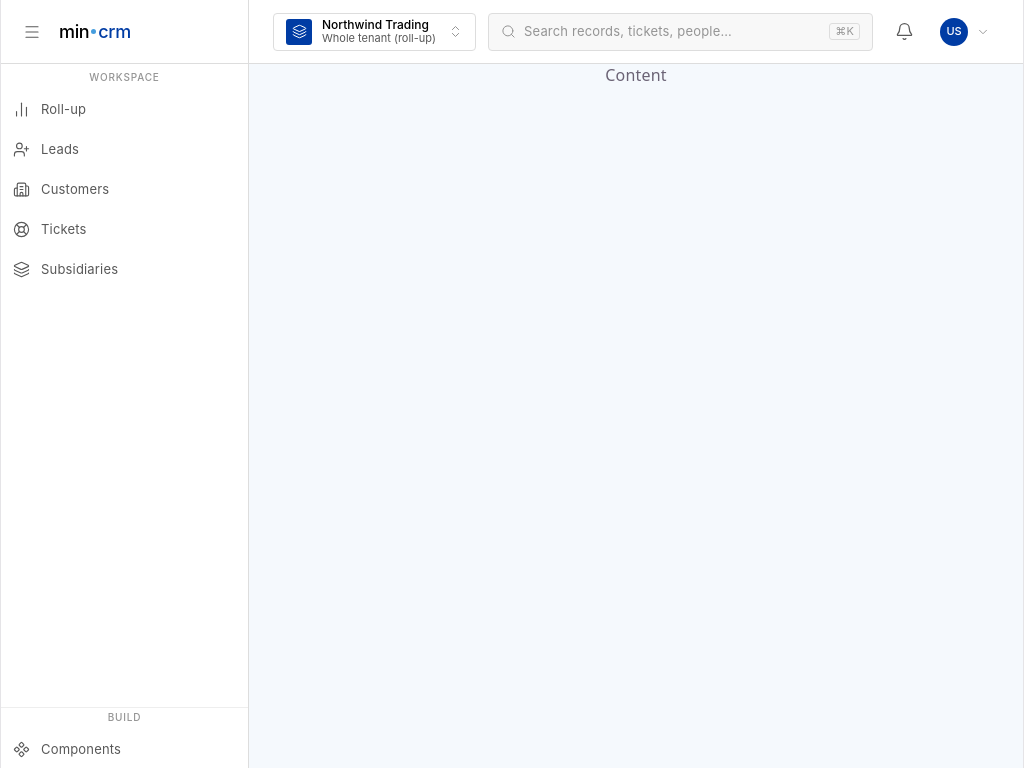
ScopeSwitcher — tenant_admin (whole tenant scope) › dropdown closes after selection
Click the button with test id "scope-switcher-chip" at (374, 32), box [273,12,476,50]
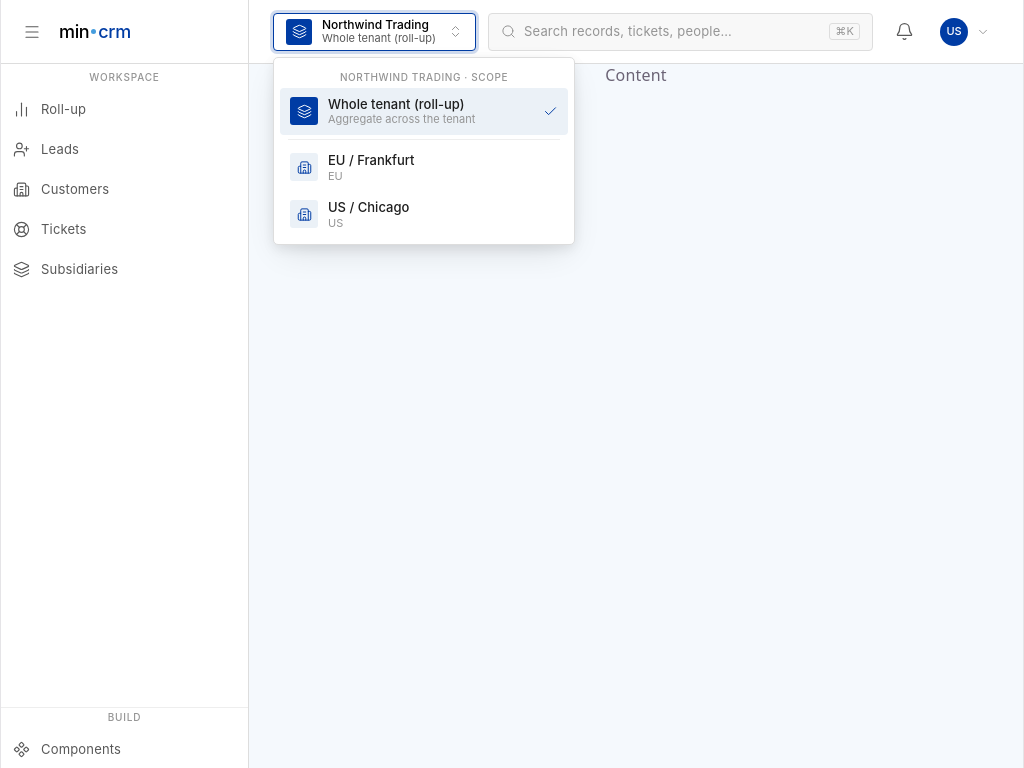
Now the element with test id "scope-dropdown" is shown, box [273,56,575,245]
Click the button "Whole tenant (roll-up) Aggregate across the tenant" at (424, 111), box [280,88,568,135]
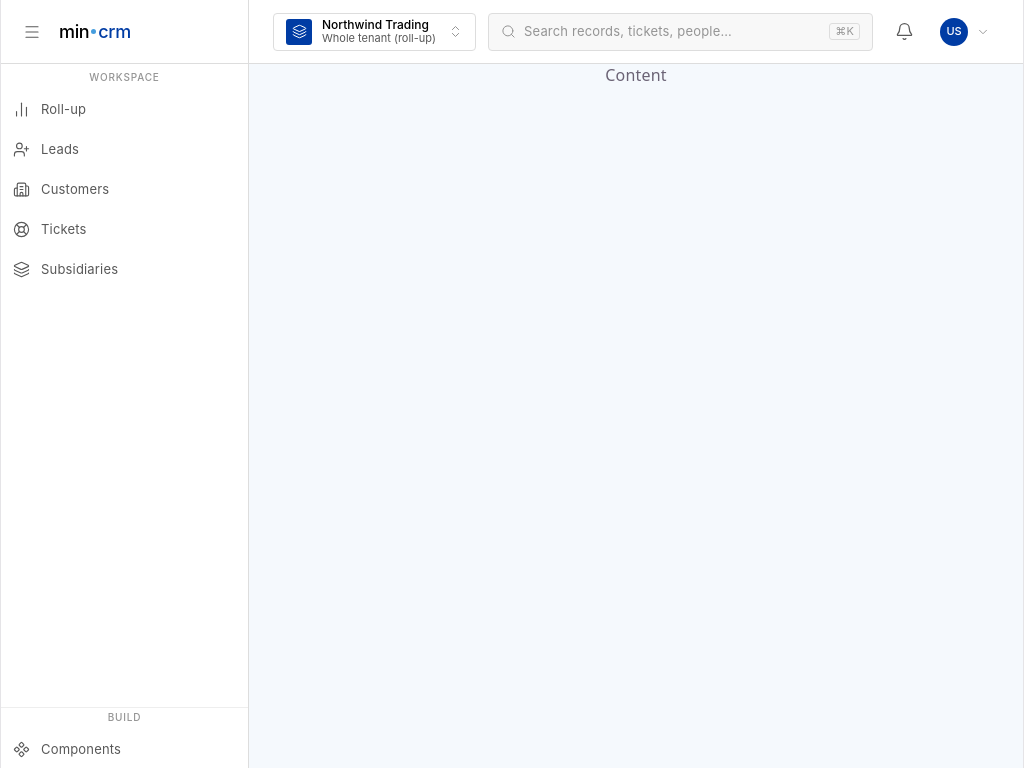
Now the element with test id "scope-dropdown" is gone
